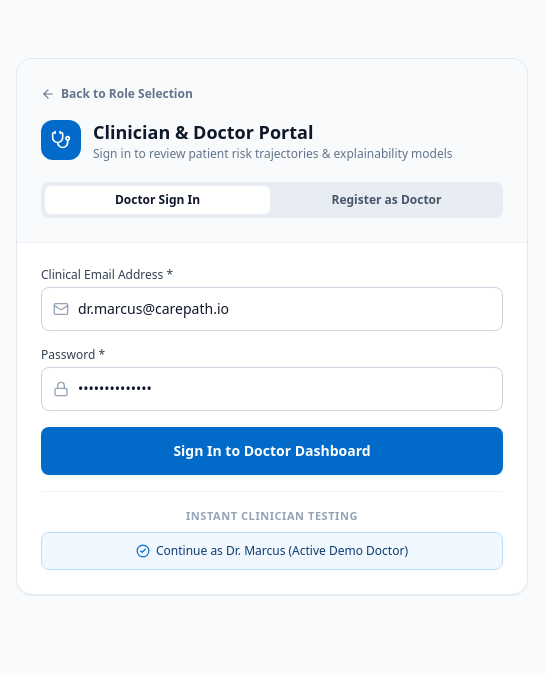
DoctorAuthPage › displays pending approval error message when logging in with a pending account
Click the button "Sign In to Doctor Dashboard": (272, 451) [41,427,503,475]
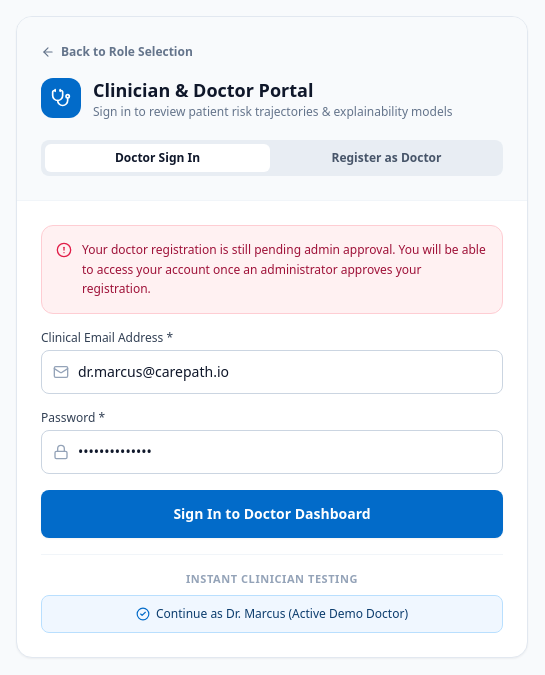
expect the text "Your doctor registration is still pending admin approval. You will be able to access your account once an administrator " is shown: met, box [82,241,486,297]
